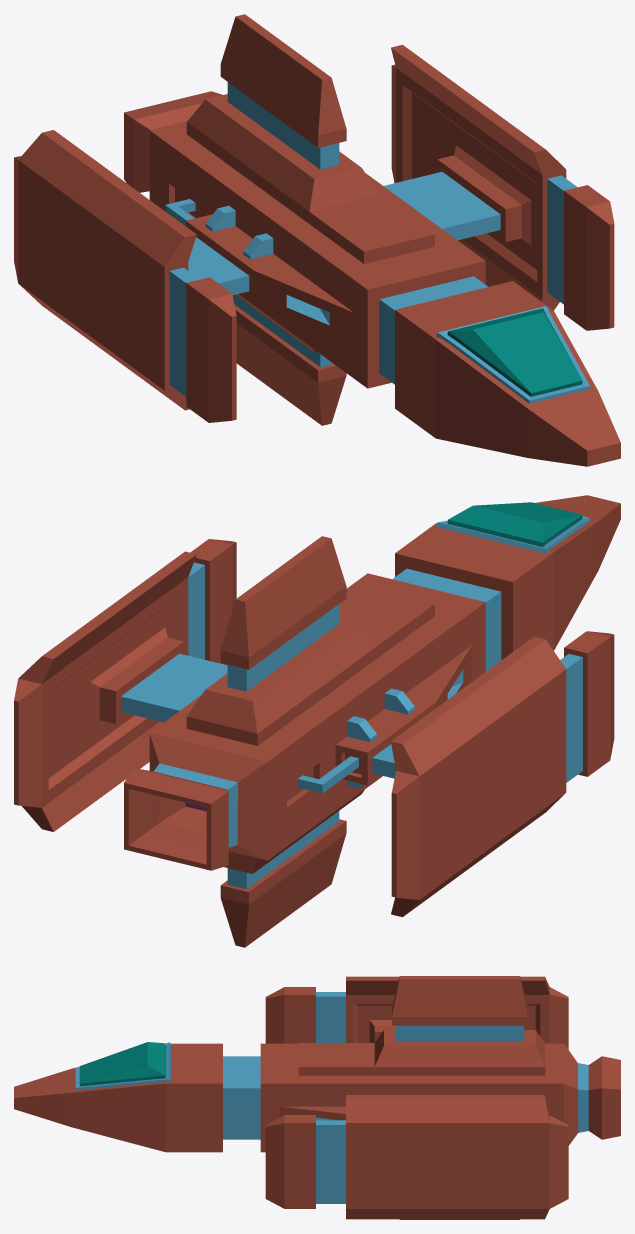
File: Main_Ship.fbx
The picture shows the model from 3 angles, top to bottom: view 1: azimuth 30°, elevation 25°; view 2: azimuth 150°, elevation 25°; view 3: azimuth 270°, elevation 25°; orthographic projection. The views are drawn at different scales.
Visible parts, largest first — view 1: Fighter_1; view 2: Fighter_1; view 3: Fighter_1.
Part boxes in pixels (bbox=[...]): Fighter_1: bbox=[14, 14, 620, 466]; Fighter_1: bbox=[14, 495, 620, 947]; Fighter_1: bbox=[14, 976, 620, 1219].
Size of the model in its own units: 34 by 28 by 64.04.
